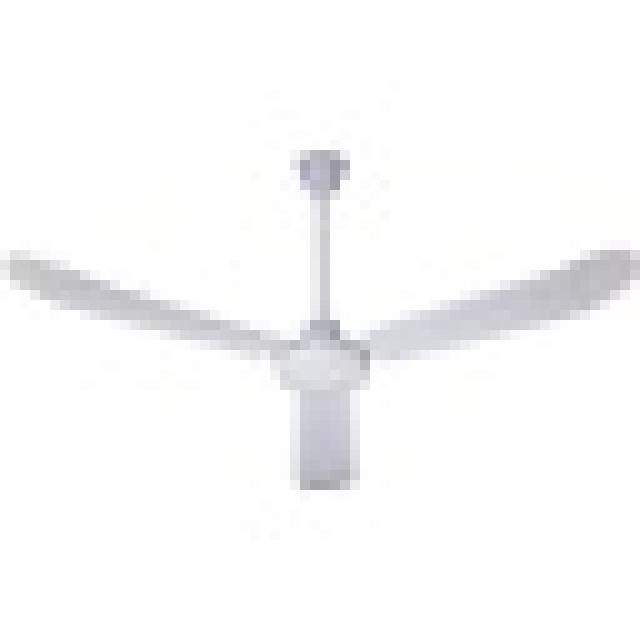Bulb: (27, 162, 640, 483)
